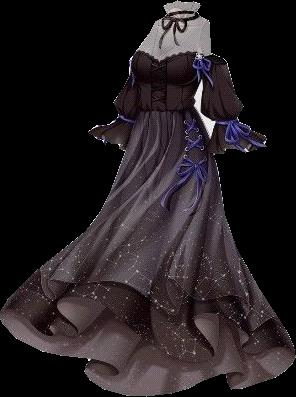Bodice: (129, 1, 211, 110)
Hemline: (0, 295, 295, 363)
Neckline: (137, 50, 206, 65), (162, 13, 198, 22), (163, 4, 197, 9)
Skirt: (0, 108, 295, 395)
Sleeve: (200, 54, 266, 152)
Sleeveline: (199, 52, 226, 76), (214, 118, 236, 124)
Waistline: (134, 107, 194, 113)
